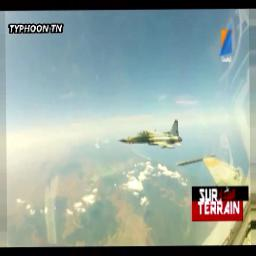Airplane: (118, 119, 183, 150)
